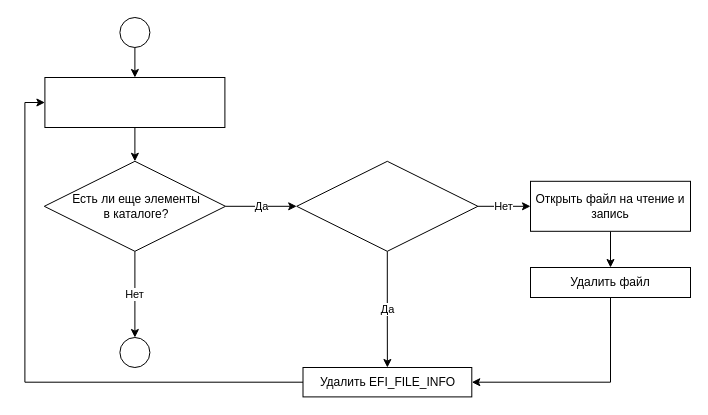
This 708x415 diagram has some shape labels left out. Here are the shapes that lost their labels. From the top down, the centre of each, then its label:
At point (134, 102): "Получить EFI_FILE_INFO из дескриптора каталога".
At point (387, 205): "Это каталог?".
